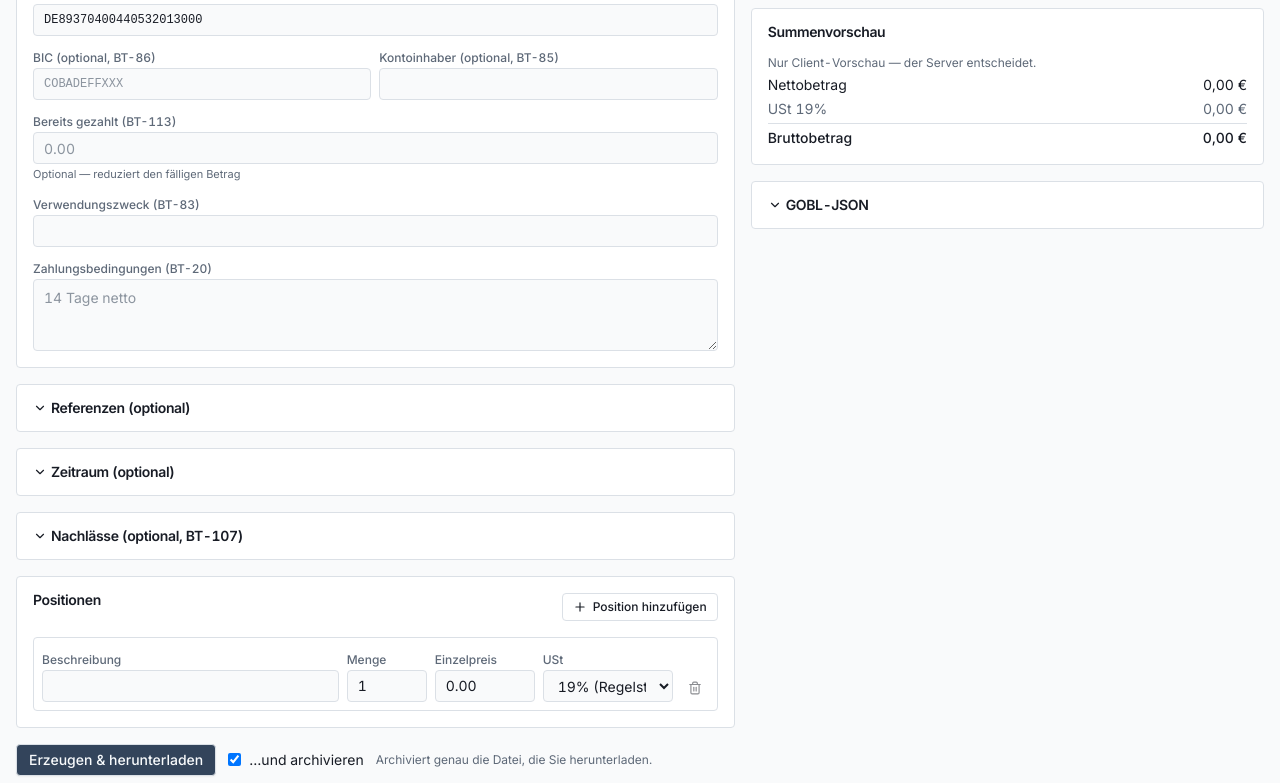
NewInvoicePage › renders optional sections + party IDs + country in DE
The image size is (1280, 783).
(page scrolled)
Check: the field labelled "Verwendungszweck (BT-83)" is shown, box [33,214,718,246]
Check: the text box labelled "Zahlungsbedingungen (BT-20)" is shown, box [33,278,718,350]
Step 1. Click the button with test id "section-refs" → {"x": 112, "y": 408}, box [33,400,190,414]
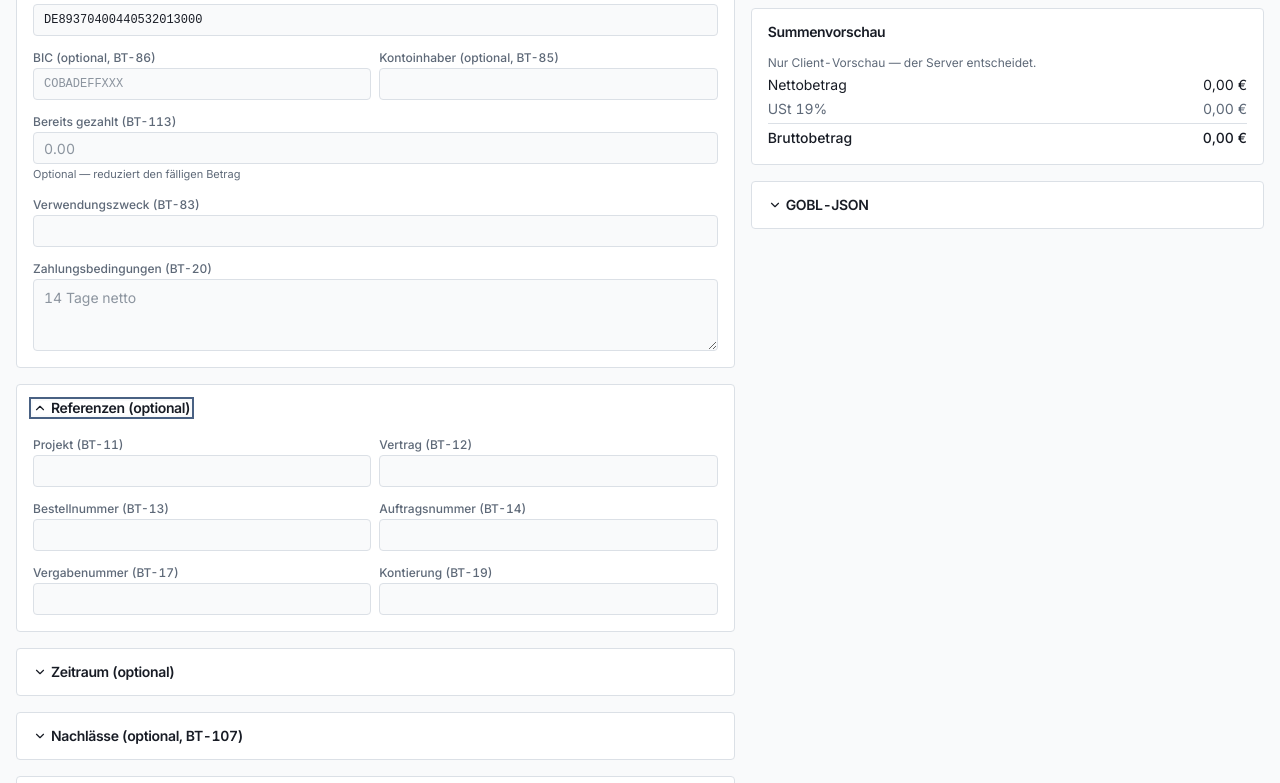
Check: the field labelled "Projekt (BT-11)" is shown, box [33,454,371,486]
Check: the field labelled "Bestellnummer (BT-13)" is shown, box [33,518,371,550]
Step 2. Click the button with test id "section-period" → {"x": 104, "y": 672}, box [33,664,174,678]
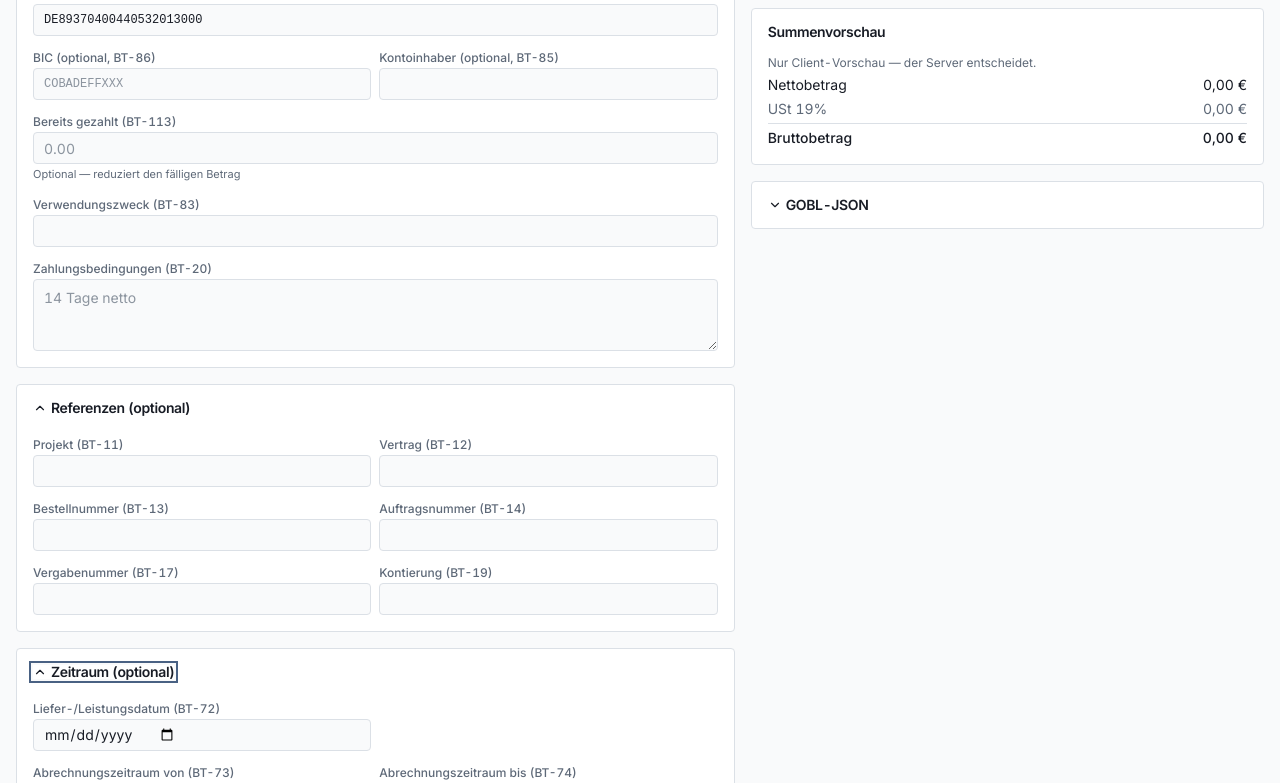
Check: the date field labelled "Liefer-/Leistungsdatum (BT-72)" is shown, box [33,718,371,750]
